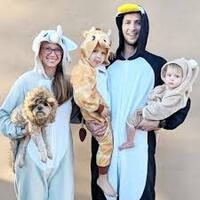person: (114, 1, 152, 58), (41, 29, 70, 77)
